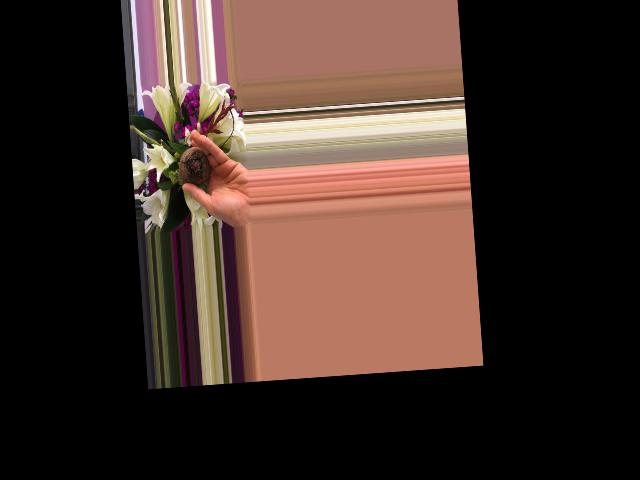beet: (177, 144, 212, 187)
